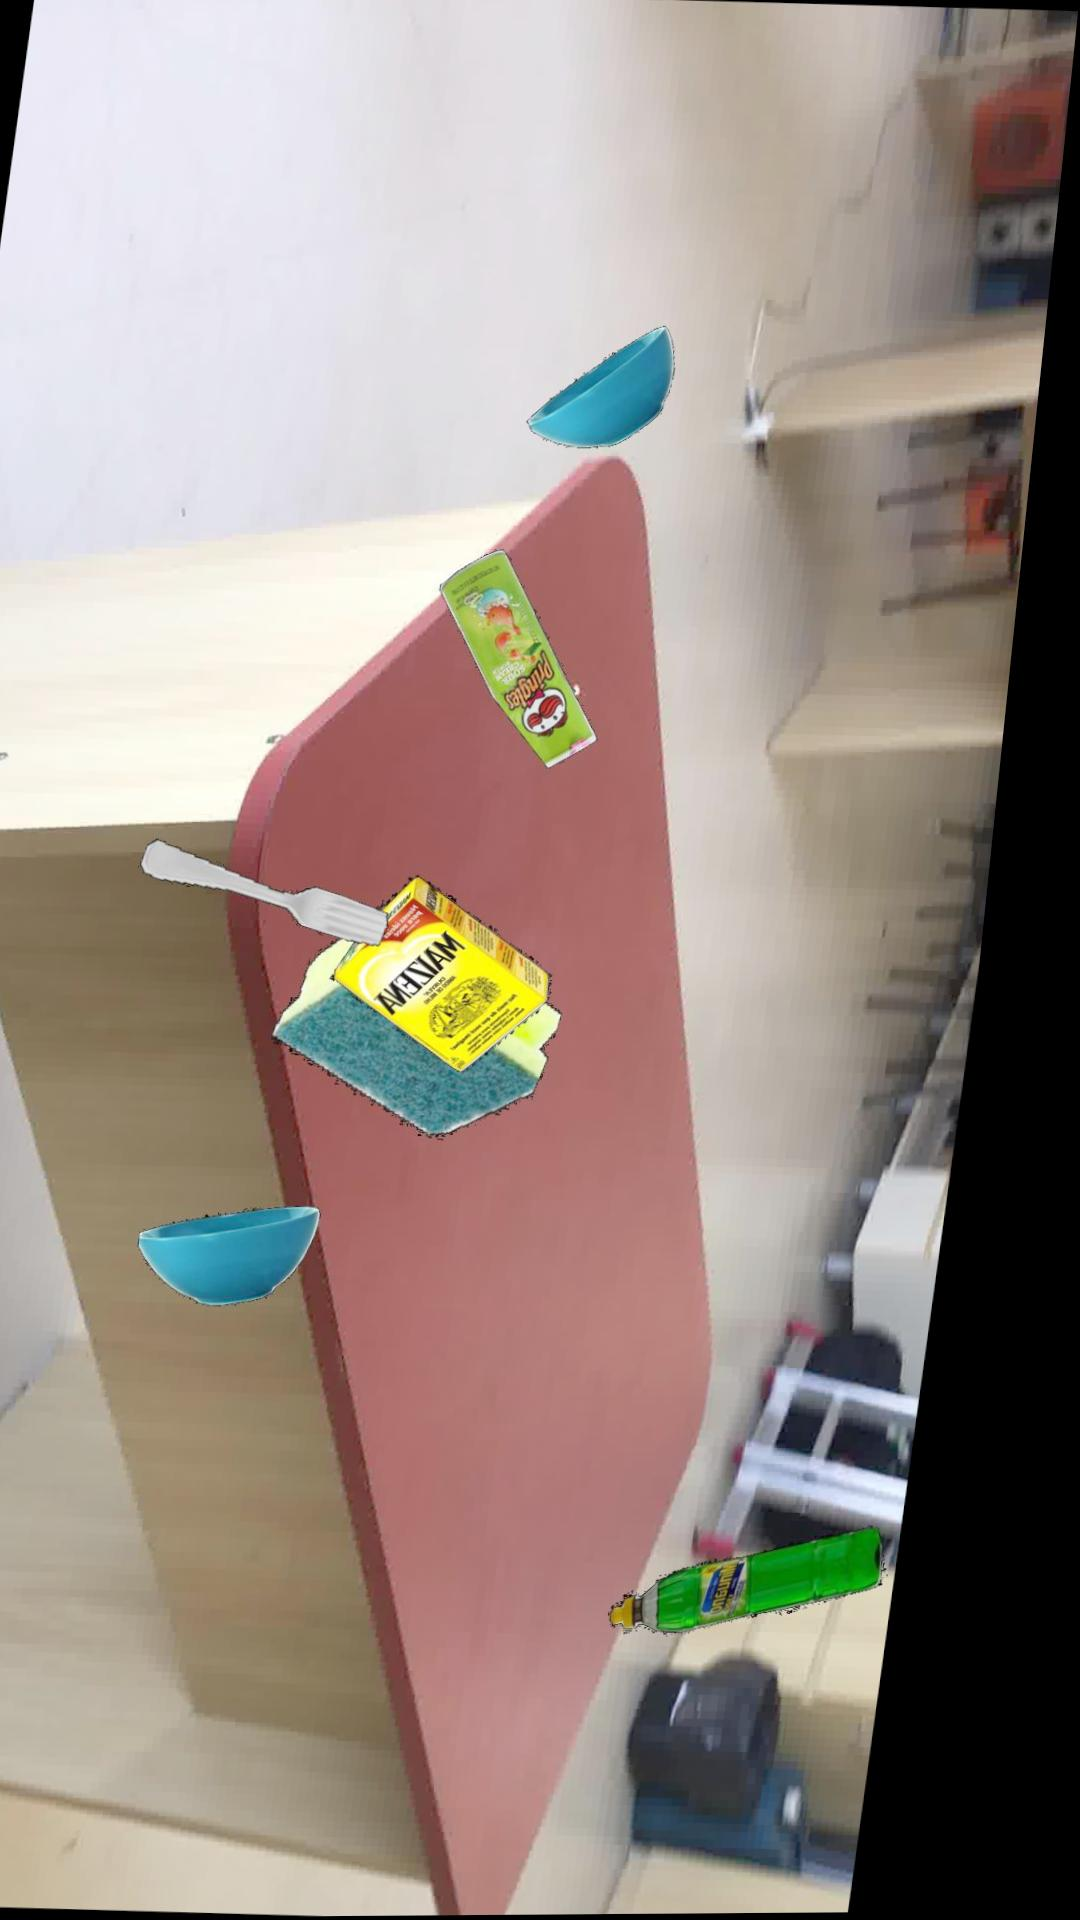bowl: (162, 1204, 345, 1304), (534, 324, 680, 447)
cleaner: (641, 1524, 919, 1634)
fork: (157, 836, 407, 944)
pringles: (450, 547, 612, 766)
sponge: (291, 902, 583, 1135)
